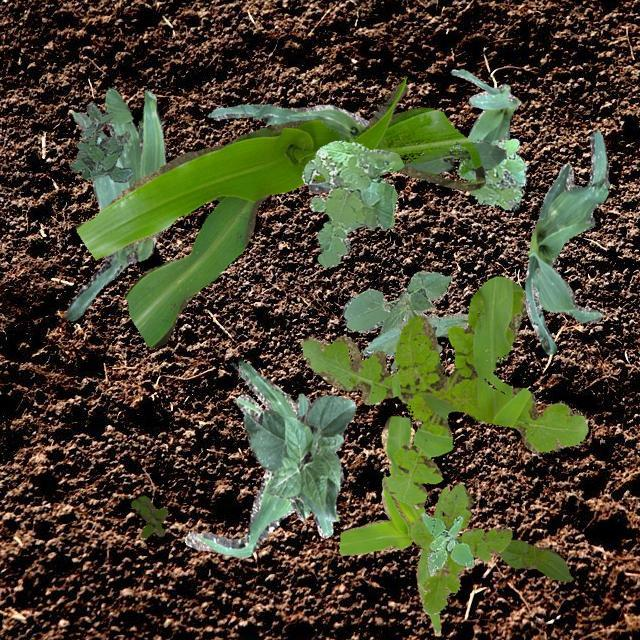crop: (74, 76, 484, 346), (184, 360, 332, 556), (338, 416, 448, 634), (62, 88, 165, 320), (524, 128, 608, 352), (206, 102, 368, 192), (242, 394, 354, 520), (342, 270, 468, 368), (438, 68, 520, 150), (404, 140, 504, 173), (498, 538, 572, 580), (288, 496, 310, 520)
weed: (299, 276, 586, 508), (408, 482, 511, 614), (300, 140, 402, 268), (67, 100, 132, 182), (456, 138, 526, 208), (419, 512, 474, 574), (130, 494, 167, 536)
